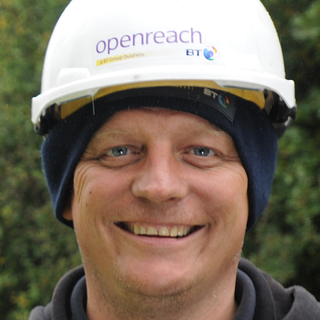eye: (177, 141, 226, 163), (94, 141, 144, 162)
